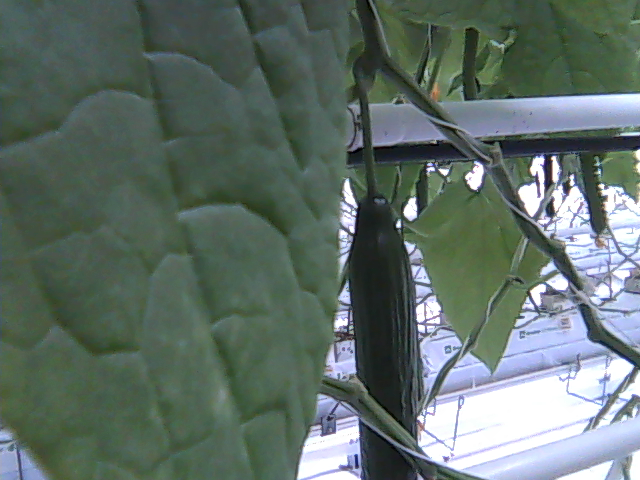concombre: (345, 188, 422, 480)
